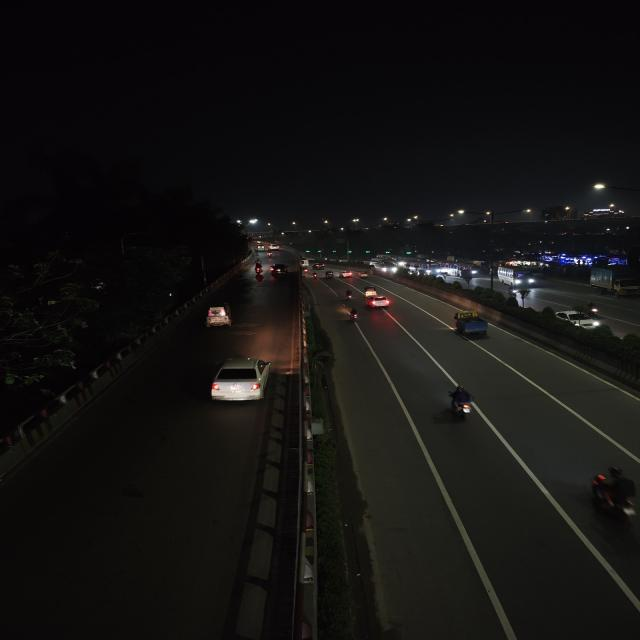bus: (495, 263, 540, 289), (448, 262, 476, 278), (416, 262, 444, 276)
car: (205, 356, 275, 403), (551, 306, 601, 334), (367, 294, 392, 310), (270, 262, 290, 279), (250, 261, 266, 277), (342, 286, 356, 302), (337, 270, 355, 281)
cng: (196, 302, 236, 332), (362, 283, 378, 298), (358, 269, 371, 280), (326, 271, 334, 280)
motorcycle: (585, 461, 640, 526), (441, 381, 480, 422), (343, 304, 363, 326), (311, 270, 320, 280)
pickup_van: (451, 306, 491, 341)
truck: (586, 263, 640, 299)
